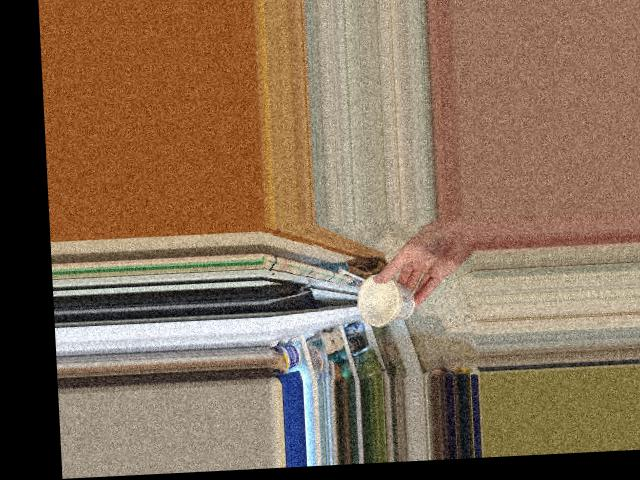cotage: (359, 278, 416, 326)
